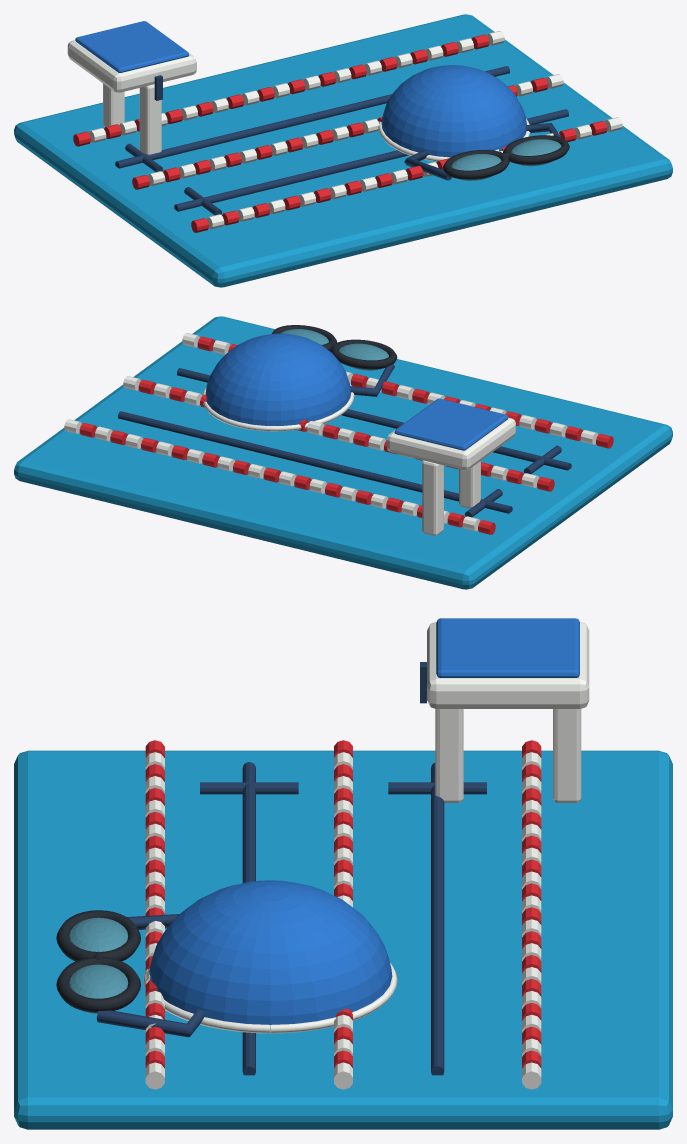
File: swimming.glb
The picture shows the model from 3 angles, top to bottom: view 1: azimuth 30°, elevation 25°; view 2: azimuth 150°, elevation 25°; view 3: azimuth 270°, elevation 25°; orthographic projection. The views are drawn at different scales.
Visible parts, largest first — view 1: swimming; view 2: swimming; view 3: swimming.
Part boxes in pixels (x1=…): swimming: x1=14, y1=14, x2=672, y2=287; swimming: x1=14, y1=316, x2=672, y2=589; swimming: x1=14, y1=618, x2=672, y2=1129.
Size of the model in its own units: 0.36 by 0.088 by 0.28.
